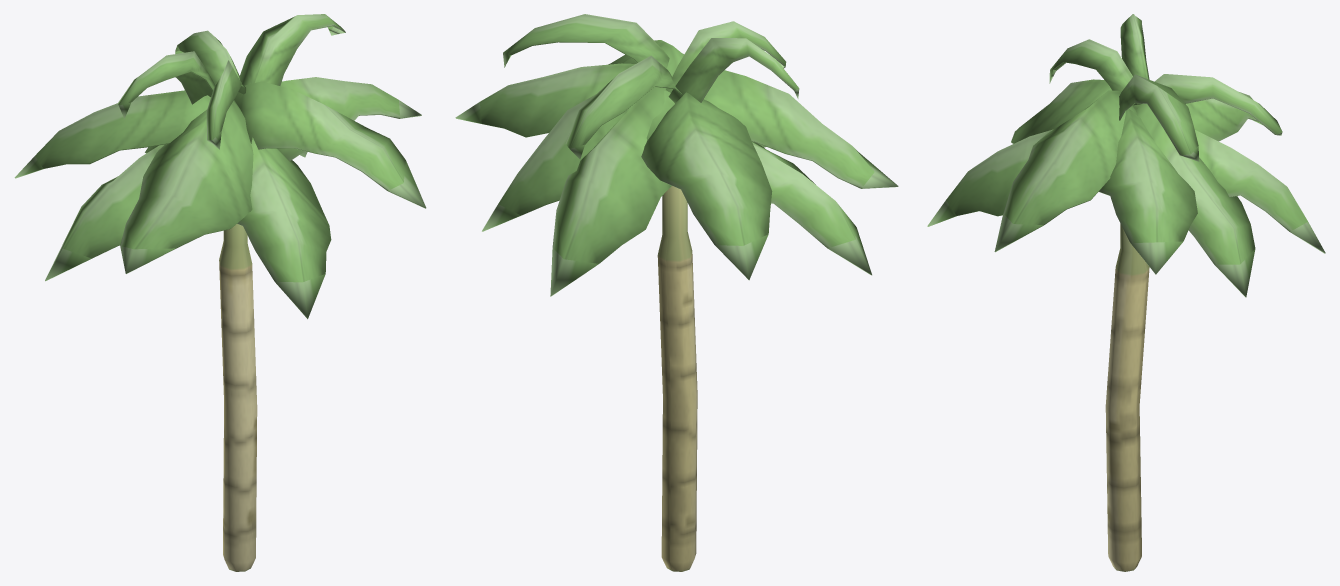
The model's file is tree.glb.
The picture shows the model from 3 angles, left to right: view 1: azimuth 30°, elevation 25°; view 2: azimuth 150°, elevation 25°; view 3: azimuth 270°, elevation 25°; orthographic projection. The views are drawn at different scales.
Visible parts, largest first — view 1: Cube; view 2: Cube; view 3: Cube.
Boxes of the visible parts, left/top/right/bottom form: Cube: left=14, top=14, right=426, bottom=571; Cube: left=455, top=14, right=898, bottom=571; Cube: left=927, top=14, right=1325, bottom=571.
Size of the model in its own units: 45.25 by 58.54 by 40.69.
Materials: 3 (3 with a texture image).
